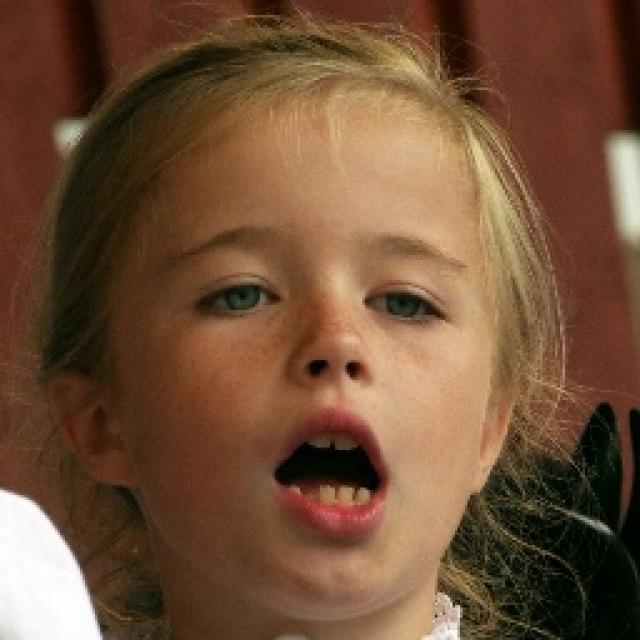earlobe: (48, 371, 142, 488), (471, 340, 528, 496)
